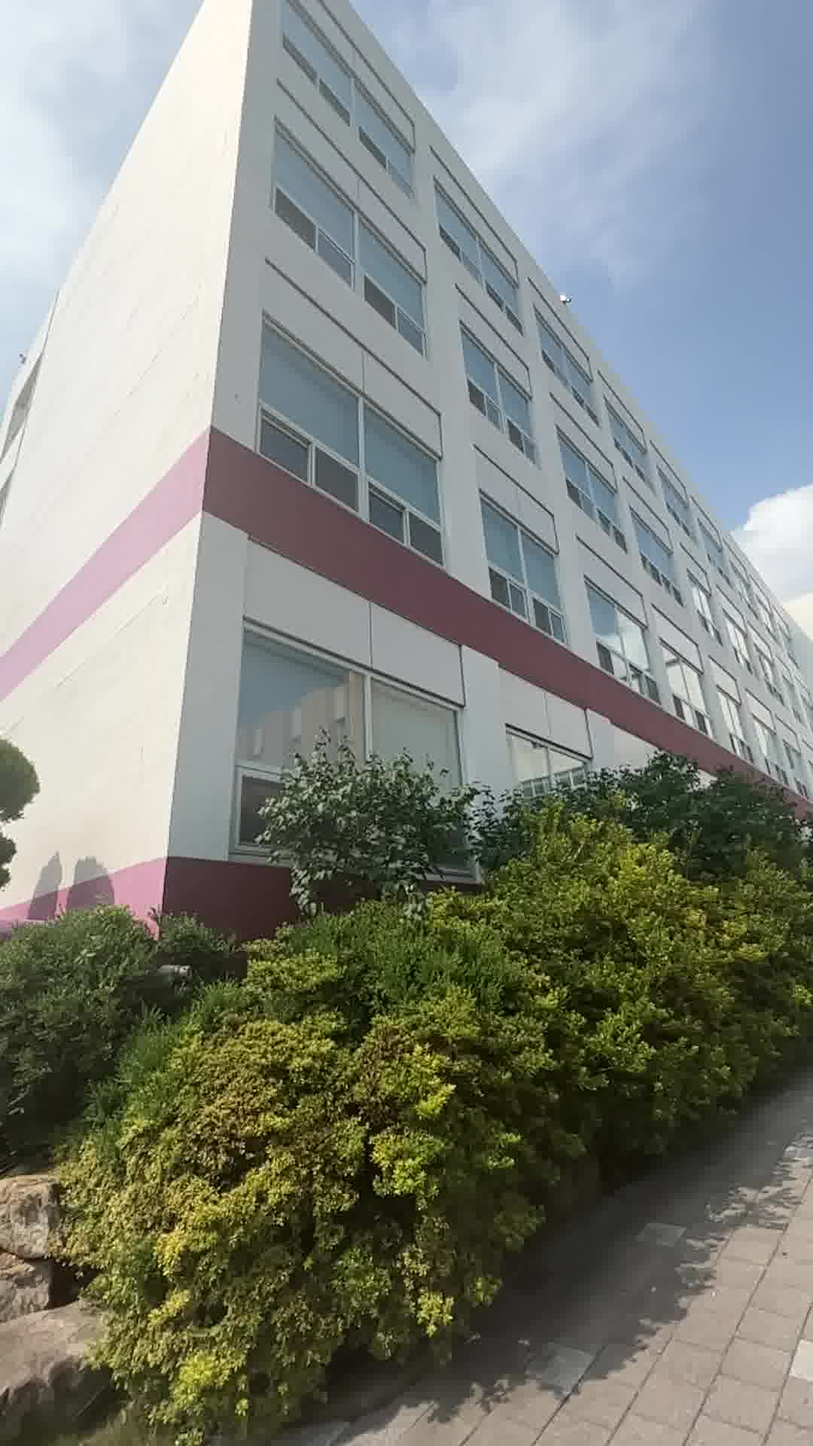medium: (0, 15, 813, 806)
